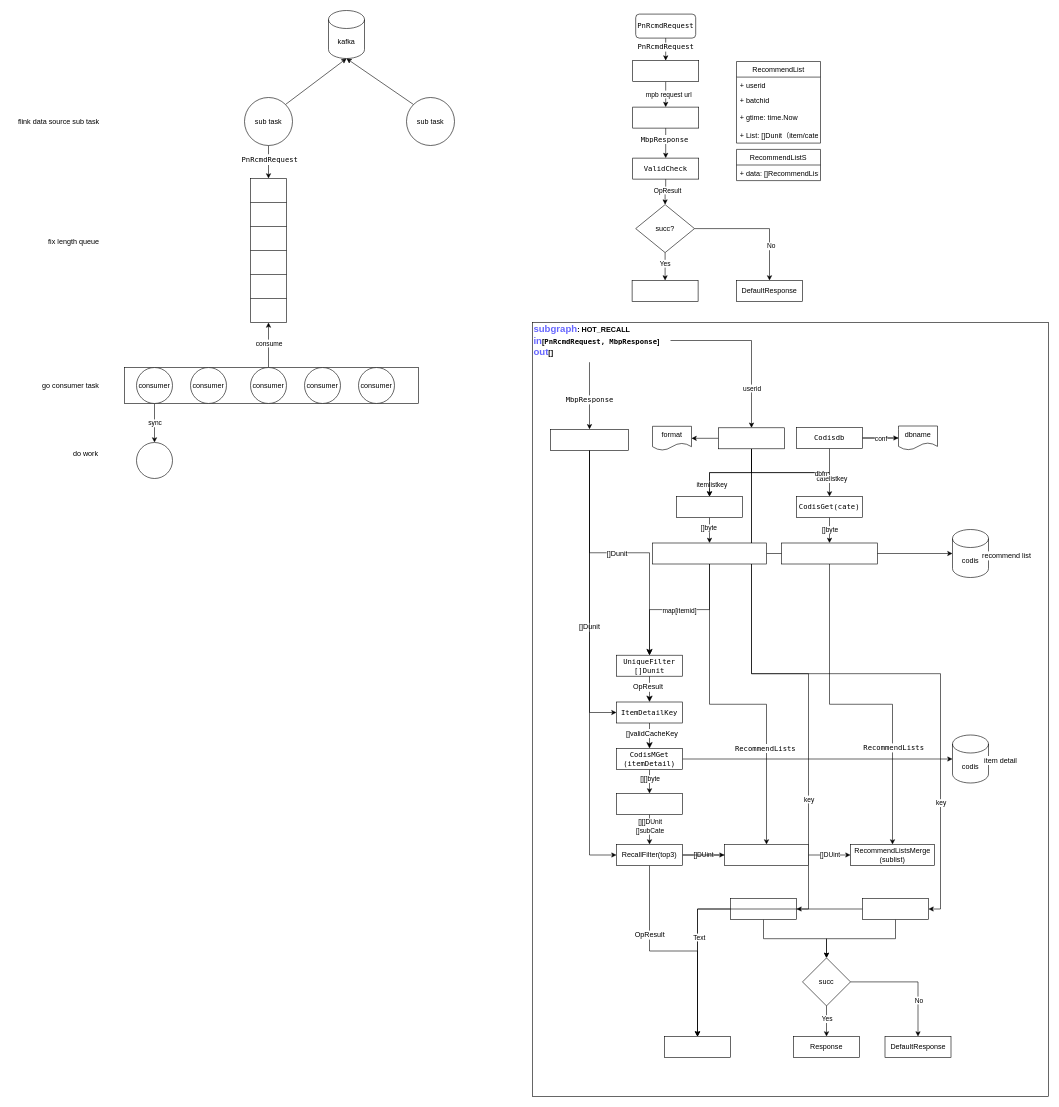
Some shapes in this 1059 by 1107 pixel diagram are drawn without their labels. Each missing label, with the centre of its shape:
CacheKey: the point at 751,438
CodisGet(item): the point at 709,507
CodisSet(cate): the point at 895,909
CodisSet(item): the point at 763,909
compute: the point at 154,460
dump: the point at 697,1047
HOT_RECALL: the point at 665,291
ItemSubCateList: the point at 649,803
MbpRecall: the point at 665,117
ParseMbpResponse: the point at 589,439
ProtocolConv: the point at 665,71
RecommendListS ( RecommendLists (cate)): the point at 829,553
RecommendListS (RecommendLists(item)): the point at 709,553
RecommendListsMerge (itemlist): the point at 766,855
